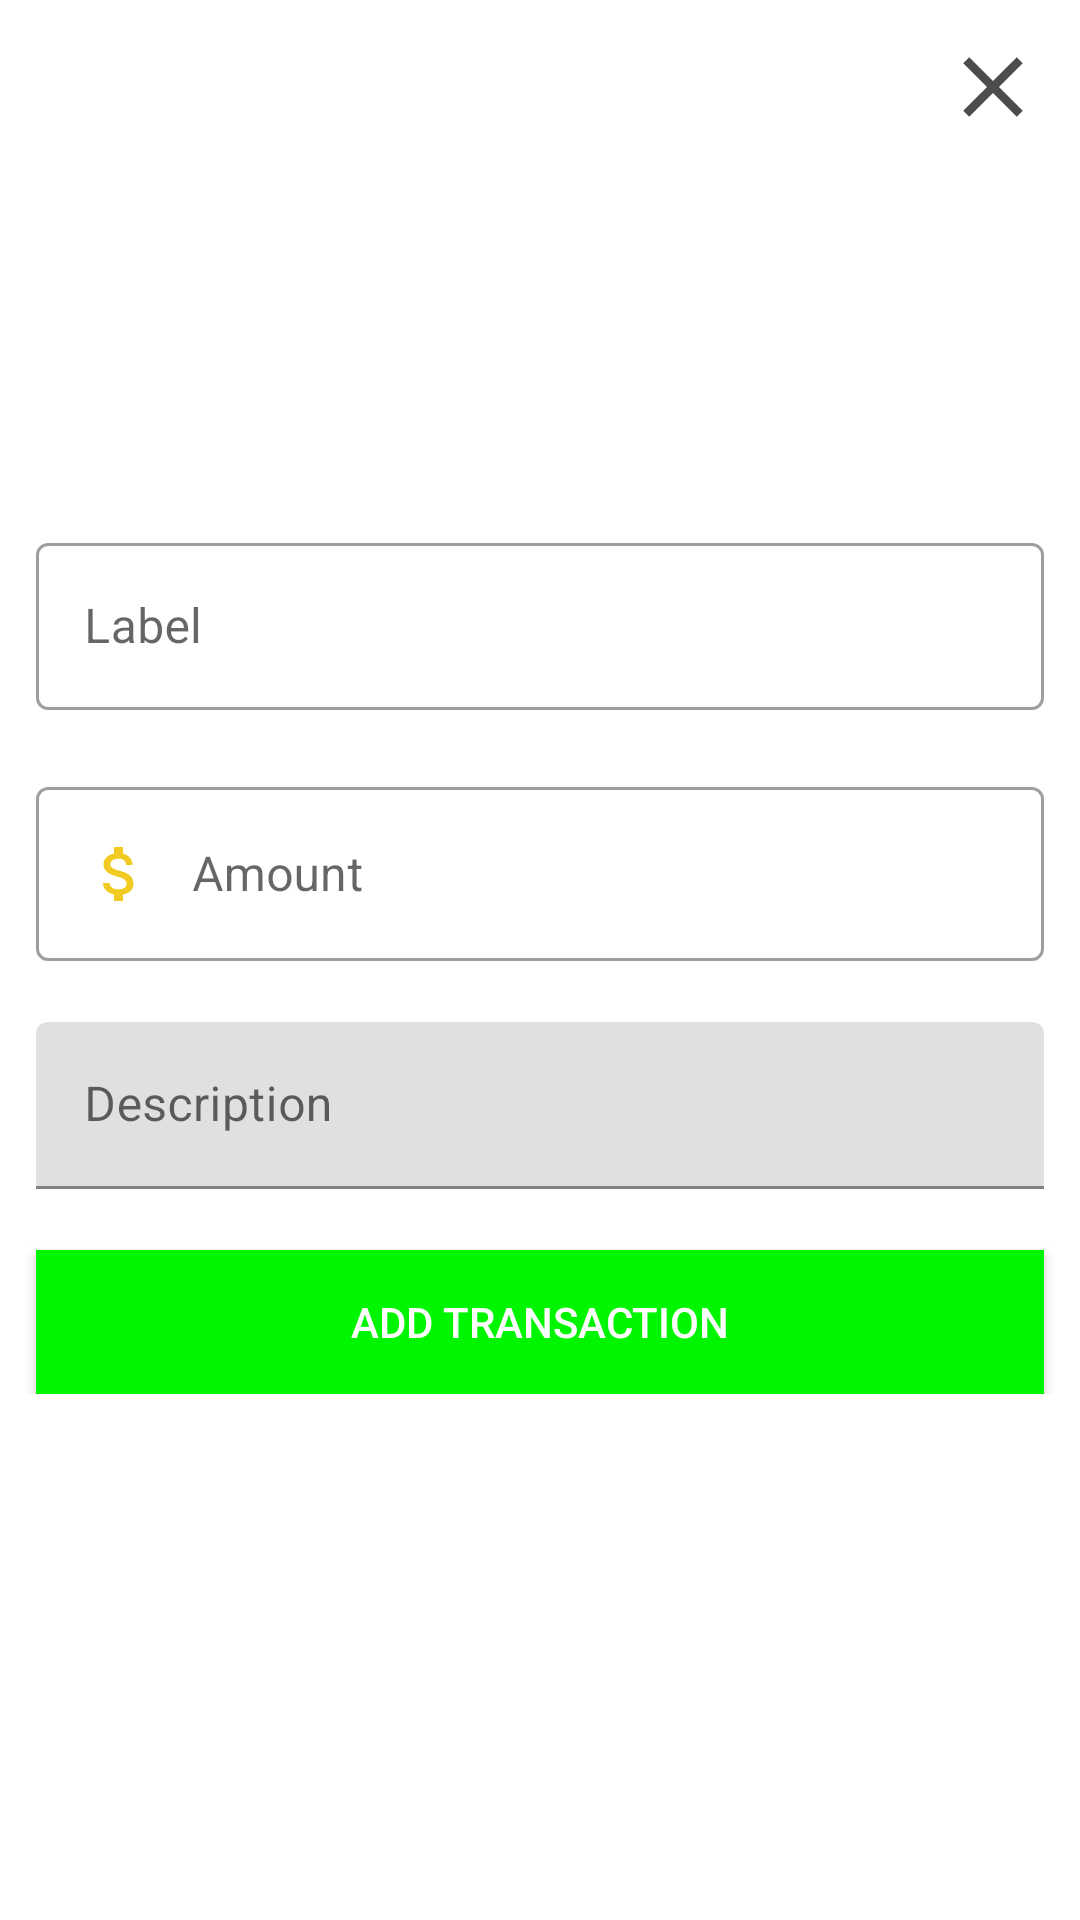

Screen size 1080×1920. Icon name, then its center in pixels as (x,y):
close tran: (993,87)
